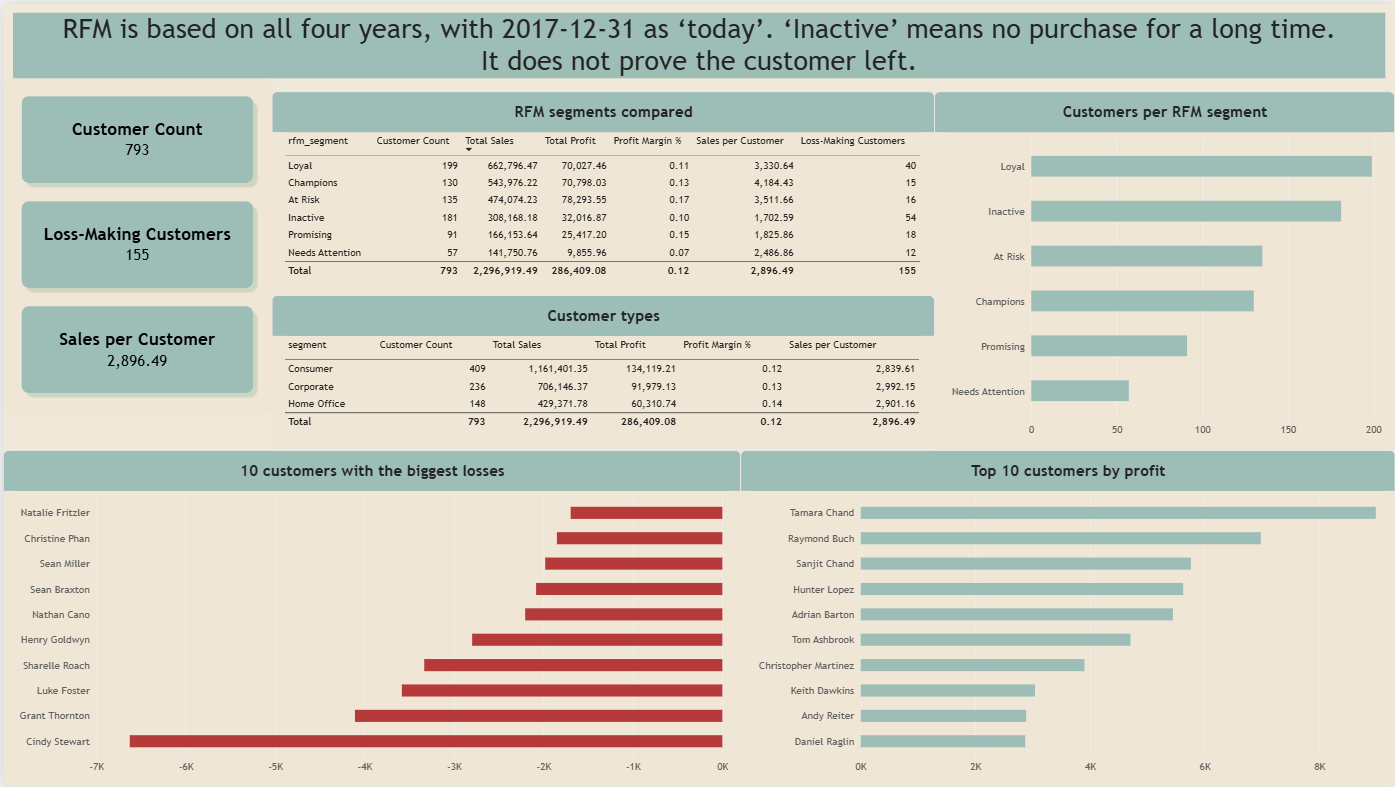

The dashboard page shown, as its layout file describes it:
{"tool":"powerbi","page":{"name":"4 Customers","canvas":[1920,1080],"ordinal":4},"visuals":[{"type":"cardVisual","fields":{"Data":["_Measures.Customer Count","_Measures.Loss-Making Customers","_Measures.Sales per Customer"]},"box":[0,103.4,371.1,461.6],"z":0},{"type":"barChart","title":"Customers per RFM segment","fields":{"Category":["customers.rfm_segment"],"Y":["_Measures.Customer Count"]},"box":[1285.2,120,635.2,494.9],"z":1000},{"type":"tableEx","title":"RFM segments compared","fields":{"Values":["customers.rfm_segment","_Measures.Customer Count","_Measures.Total Sales","_Measures.Total Profit","_Measures.Profit Margin %","_Measures.Sales per Customer","_Measures.Loss-Making Customers"]},"box":[371.1,120,914,282.5],"z":2000},{"type":"barChart","title":"Top 10 customers by profit","fields":{"Category":["customers.customer_name"],"Y":["_Measures.Total Profit"]},"box":[1017.4,614.9,902.9,465.3],"z":3000},{"type":"barChart","title":"10 customers with the biggest losses","fields":{"Category":["customers.customer_name"],"Y":["_Measures.Total Profit"]},"box":[0,614.9,1017.4,465.3],"z":4000},{"type":"tableEx","title":"Customer types","fields":{"Values":["customers.segment","_Measures.Customer Count","_Measures.Total Sales","_Measures.Total Profit","_Measures.Profit Margin %","_Measures.Sales per Customer"]},"box":[371.1,402.5,914,212.3],"z":5000},{"type":"textbox","box":[14.5,12.7,1892.9,90.5],"z":6000}]}

Visuals, with their boxes in screenshot pixels (x1, y1, x2, y2), scaled from the page's 1920x1080 canvas onto the 1395x787 screenshot:
cardVisual - _Measures.Customer Count x _Measures.Loss-Making Customers: box(0, 75, 270, 412)
"Customers per RFM segment" barChart: box(934, 87, 1394, 448)
"RFM segments compared" tableEx: box(270, 87, 934, 293)
"Top 10 customers by profit" barChart: box(739, 448, 1394, 786)
"10 customers with the biggest losses" barChart: box(0, 448, 739, 786)
"Customer types" tableEx: box(270, 293, 934, 448)
textbox: box(11, 9, 1386, 75)
